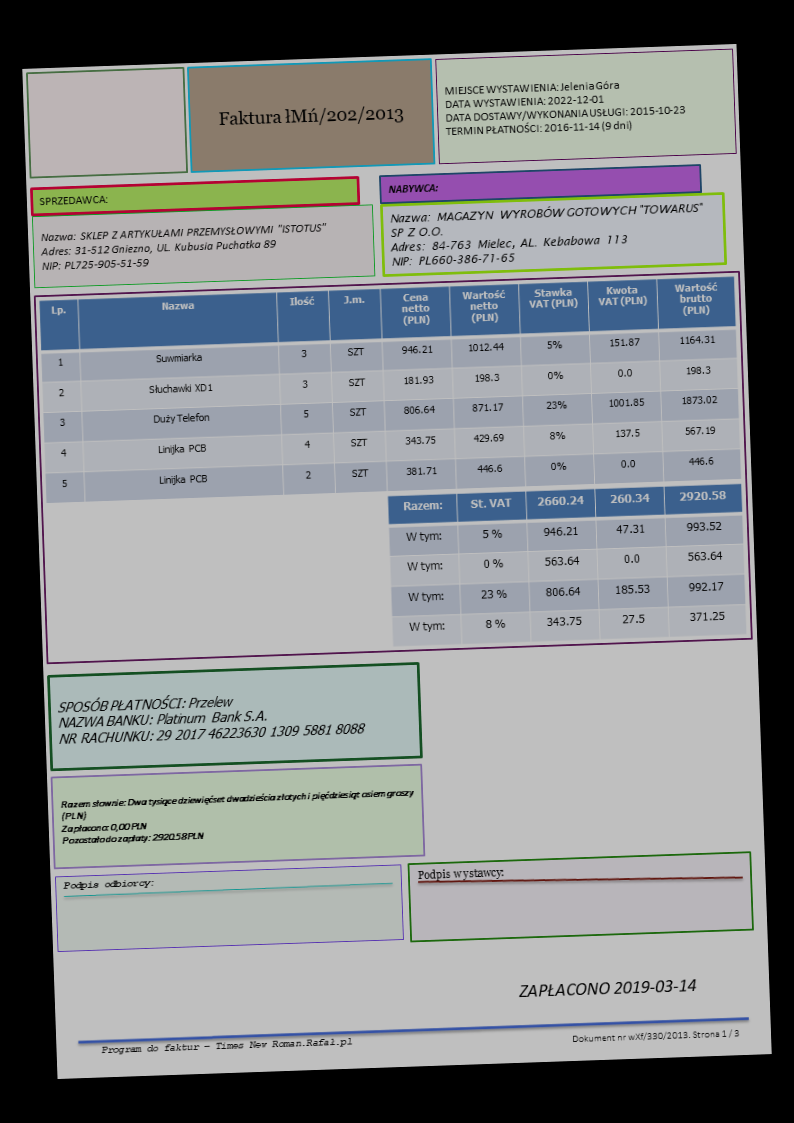Table: (38, 275, 741, 506), (387, 481, 747, 647)
TextBox: (59, 786, 417, 847), (387, 200, 706, 268), (55, 686, 367, 747), (442, 75, 688, 140), (38, 220, 330, 273), (100, 1035, 353, 1058), (215, 102, 404, 132), (516, 975, 698, 1000), (569, 1026, 741, 1045), (417, 864, 505, 885), (61, 877, 155, 893), (37, 192, 108, 208), (386, 180, 439, 197)
